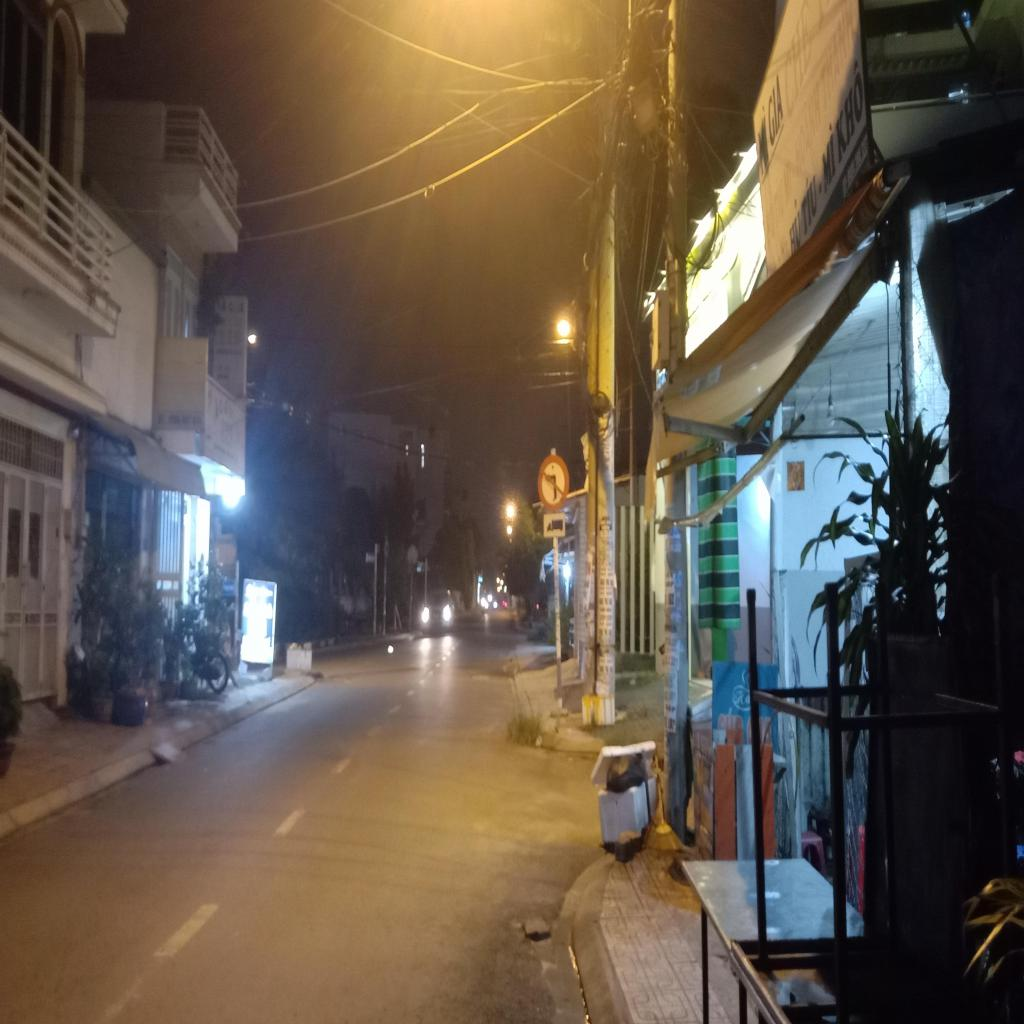cam_re_trai: (538, 452, 570, 510)
khac: (543, 513, 565, 538)
